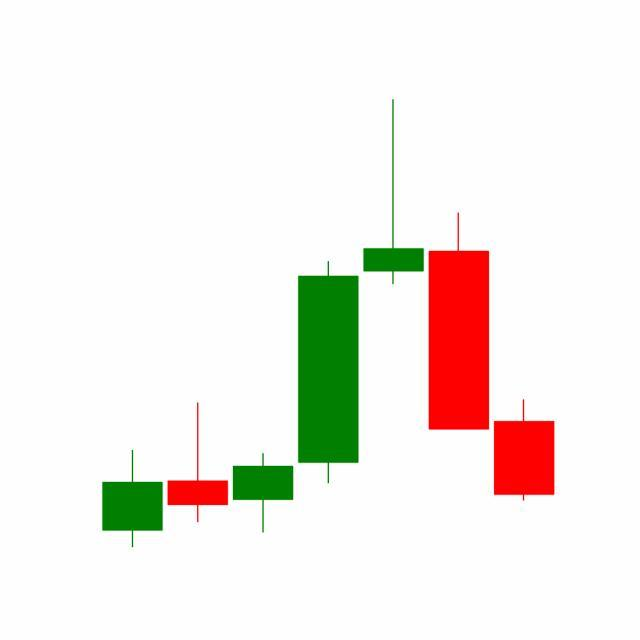Evening Star: (295, 99, 492, 489)
